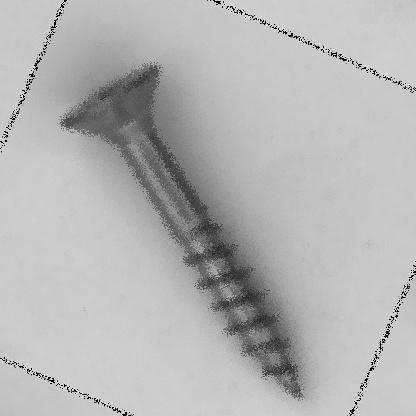metal: (58, 62, 305, 402)
